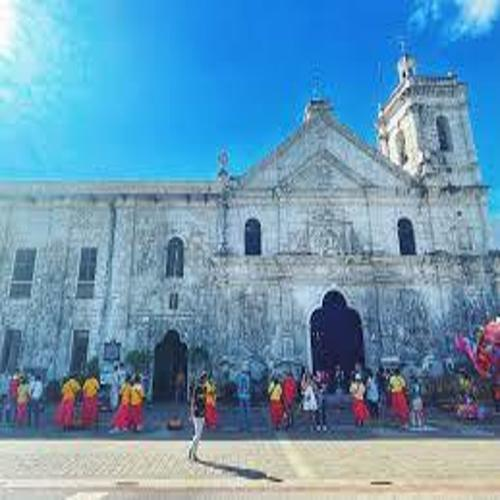Sto. Nino Basilica Church: (229, 40, 500, 414)
